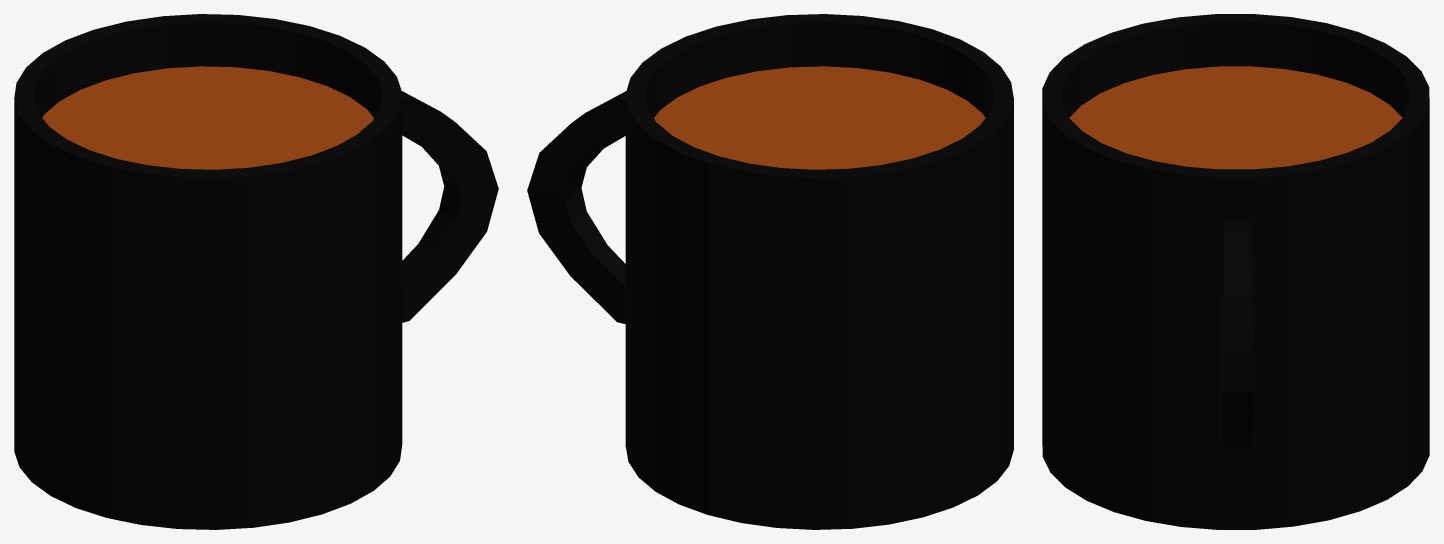
File: tea.gltf
The picture shows the model from 3 angles, left to right: view 1: azimuth 30°, elevation 25°; view 2: azimuth 150°, elevation 25°; view 3: azimuth 270°, elevation 25°; orthographic projection.
Parts seen in each view (by area): view 1: Cylinder; view 2: Cylinder; view 3: Cylinder.
Part boxes in pixels (box(x1,y1,x2,y2)): Cylinder: box(14, 14, 498, 529); Cylinder: box(527, 14, 1013, 529); Cylinder: box(1042, 14, 1429, 529).
Size of the model in its own units: 2.68 by 2 by 1.99.
